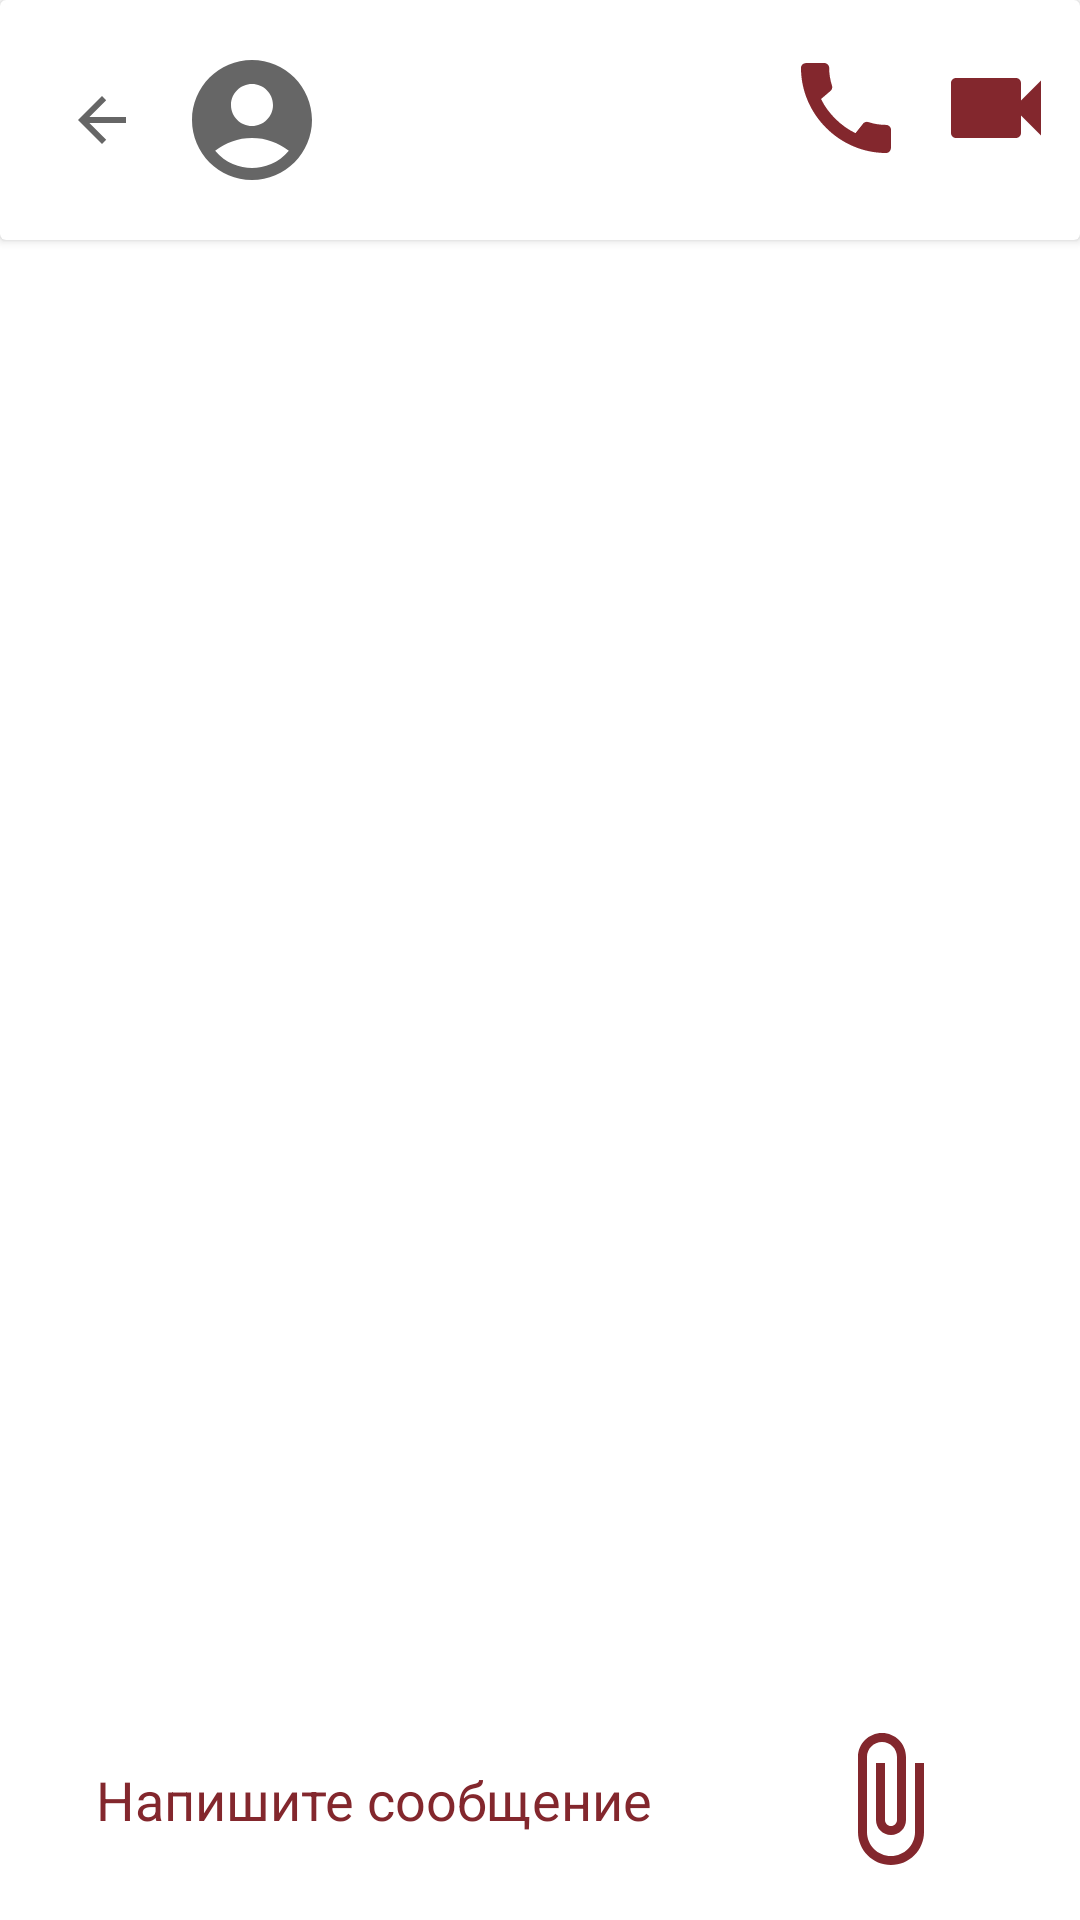

Where icons sit on this 1080*1920 app screen, as (x1, y1, x2, y2):
account circle: (192, 60, 312, 180)
attach file: (858, 1733, 924, 1865)
call: (801, 63, 891, 153)
videocam: (951, 78, 1041, 138)
